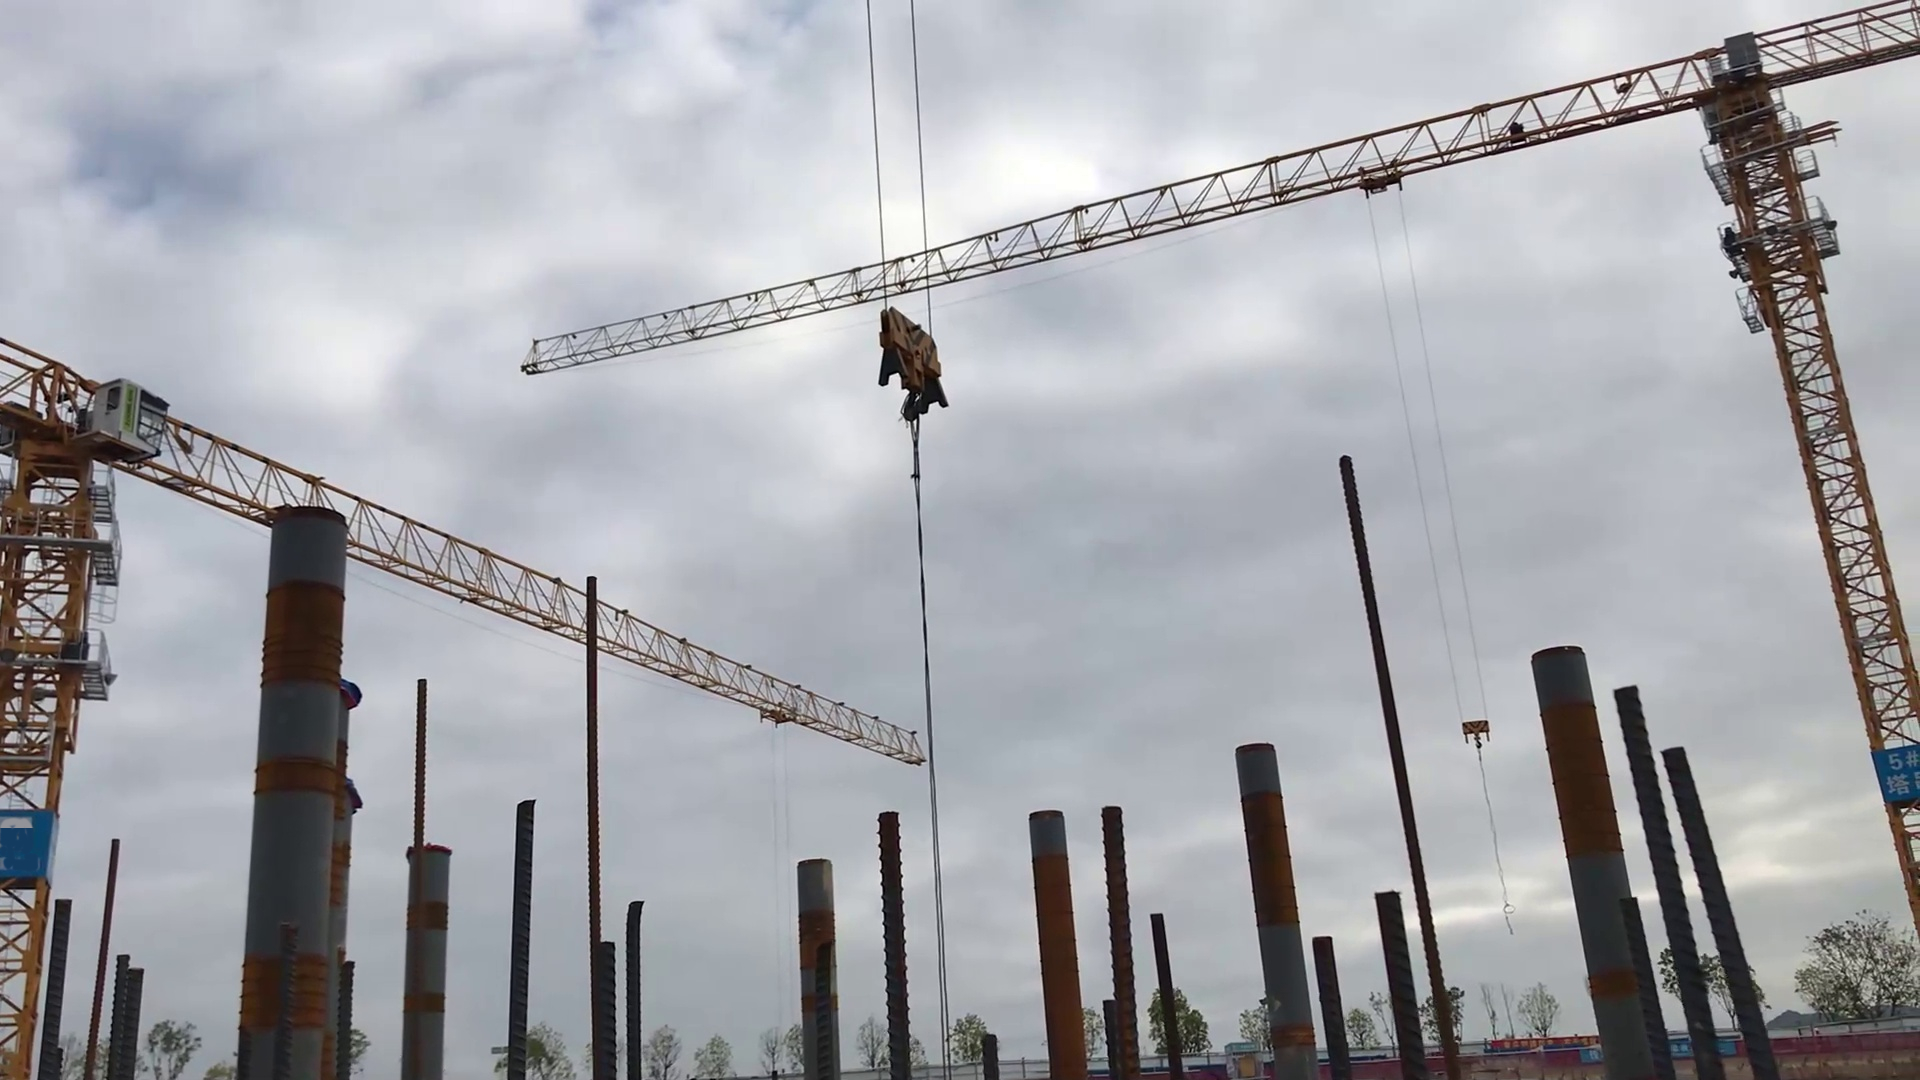fence: (1778, 1015, 1911, 1068)
hook: (874, 297, 969, 433), (1457, 716, 1498, 758)
slogan: (1865, 736, 1915, 829)
